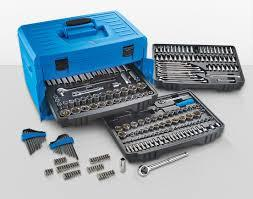wrench: (136, 149, 188, 177), (19, 126, 47, 156), (48, 131, 78, 159)
